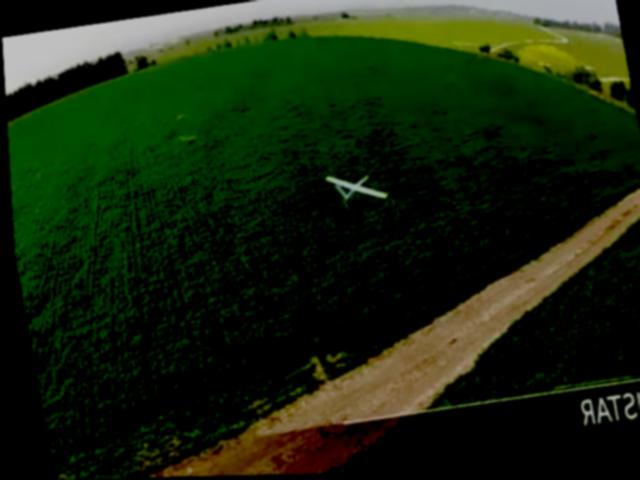uav: (322, 168, 388, 215)
